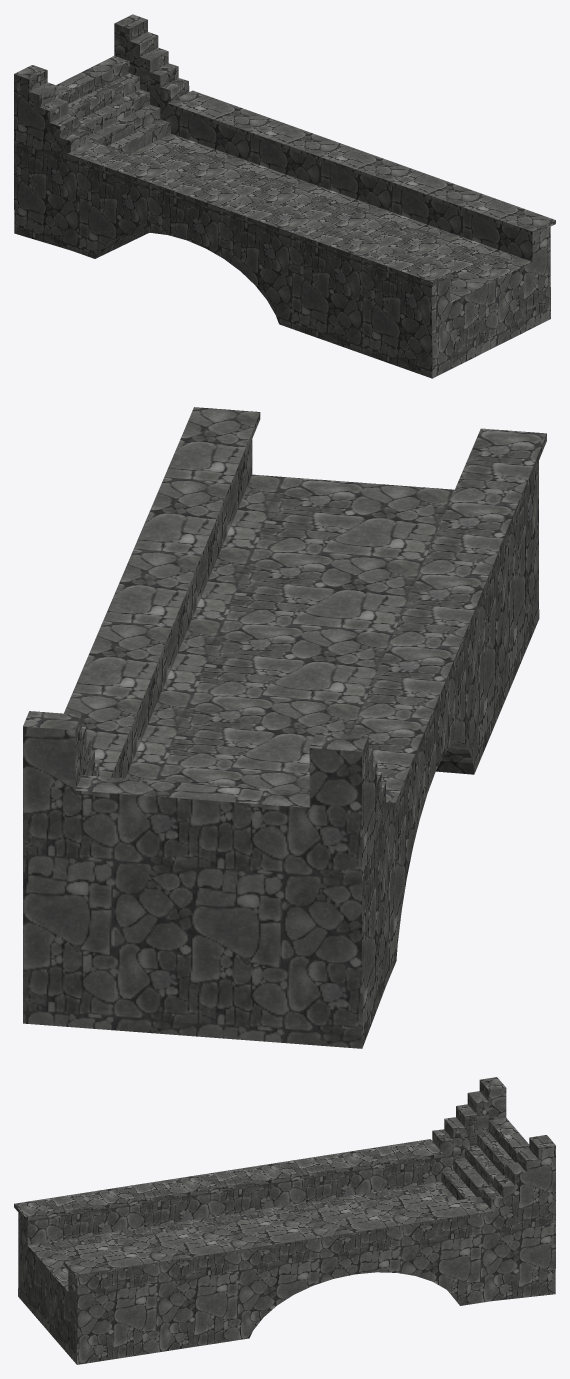
File: Jembatan 1.fbx
The picture shows the model from 3 angles, top to bottom: view 1: azimuth 30°, elevation 25°; view 2: azimuth 150°, elevation 25°; view 3: azimuth 270°, elevation 25°; orthographic projection. The views are drawn at different scales.
Visible parts, largest first — view 1: Cube_LOWPOL; view 2: Cube_LOWPOL; view 3: Cube_LOWPOL.
Part boxes in pixels (x1,y1,x2,y2): Cube_LOWPOL: [14, 14, 555, 378]; Cube_LOWPOL: [23, 407, 546, 1048]; Cube_LOWPOL: [14, 1077, 555, 1364].
Size of the model in its own units: 19.19 by 9.25 by 30.54.
